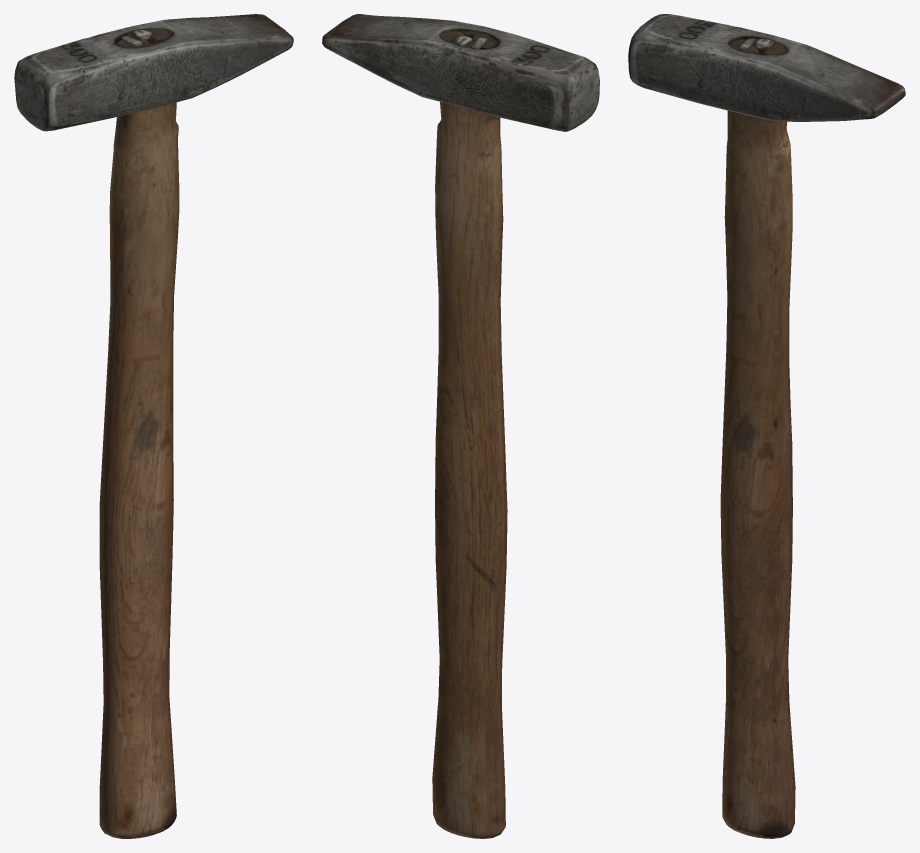
Rendered from cross_pein_hammer.glb.
3 views of the same model, side by side, from view 1: azimuth 30°, elevation 25°; view 2: azimuth 150°, elevation 25°; view 3: azimuth 330°, elevation 25° (orthographic).
Visible parts, largest first — view 1: cross_pein_hammer; view 2: cross_pein_hammer; view 3: cross_pein_hammer.
Part boxes in pixels (bbox=[...]): cross_pein_hammer: bbox=[14, 14, 293, 838]; cross_pein_hammer: bbox=[322, 14, 599, 838]; cross_pein_hammer: bbox=[628, 14, 905, 838].
Bounding box in the file's own units: 0.0991 × 0.3002 × 0.0243.
1 material, 1 textured.
